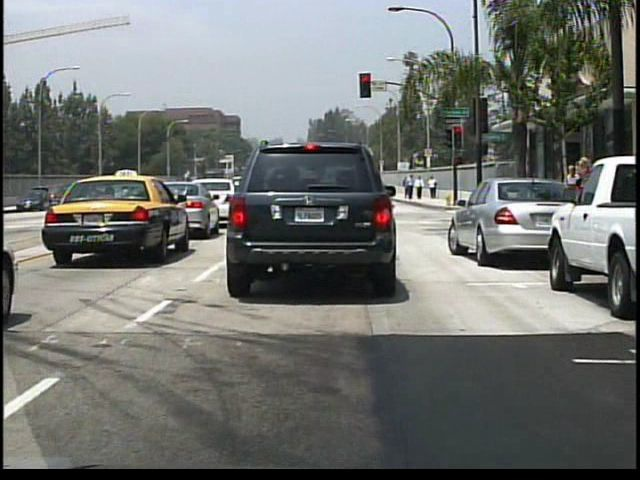person: (571, 154, 602, 264), (561, 164, 585, 227), (428, 175, 439, 201), (405, 174, 415, 200), (415, 175, 424, 201), (404, 176, 412, 200)
